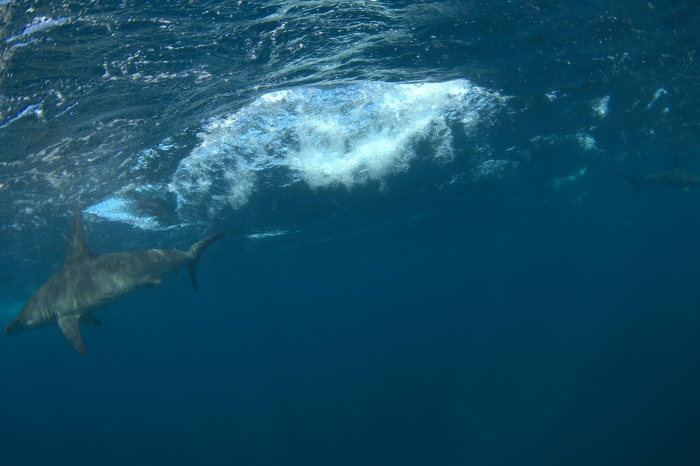Hammer: (1, 210, 215, 358)
